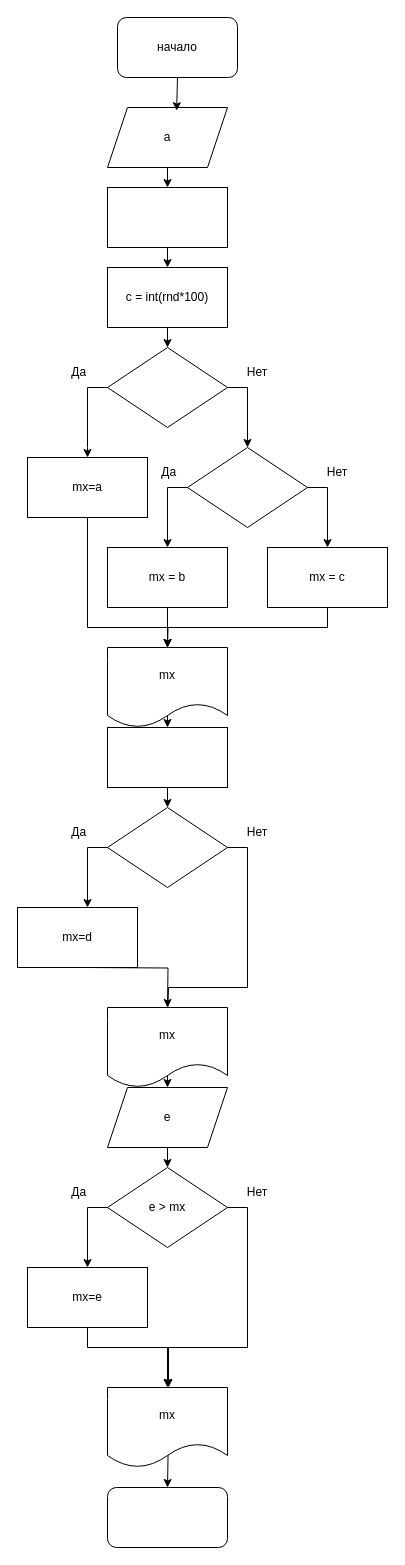
The diagram is 405 pixels wide and 1565 high, and some of its shapes have lost their labels. Each missing label, with the centre of its shape:
a > b and a > c: point 167,387
b = int(rnd*100): point 167,217
b > a and b > c: point 247,487
d > mx: point 167,847
d=int(rnd*100): point 167,757
Конец: point 167,1517
